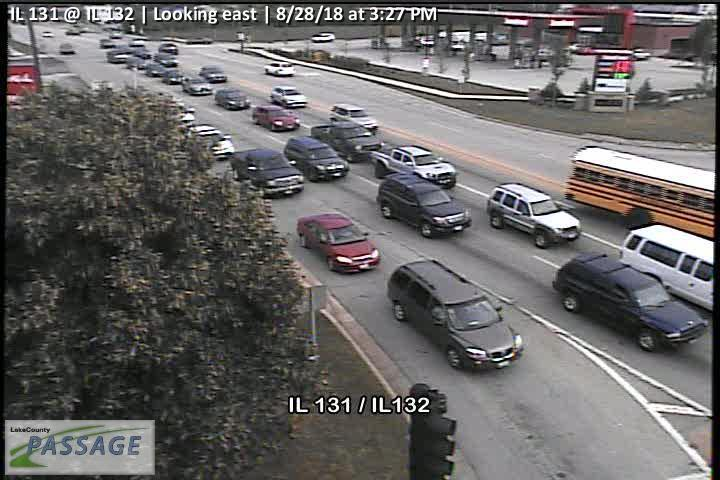Bus: (564, 145, 720, 242)
SUV: (550, 249, 707, 354), (386, 259, 524, 373), (618, 221, 715, 312), (375, 171, 473, 240), (486, 182, 583, 250), (283, 134, 352, 182), (328, 103, 379, 135), (252, 104, 300, 133), (270, 85, 308, 108), (264, 60, 297, 76), (158, 43, 178, 54)
Sedan: (298, 211, 381, 275), (229, 147, 304, 198), (183, 122, 235, 159), (214, 88, 251, 110), (180, 74, 213, 94), (199, 65, 227, 83), (153, 52, 178, 68), (162, 70, 182, 85), (126, 56, 147, 70), (146, 63, 166, 77)
Truck: (368, 142, 458, 190), (310, 120, 384, 164)
